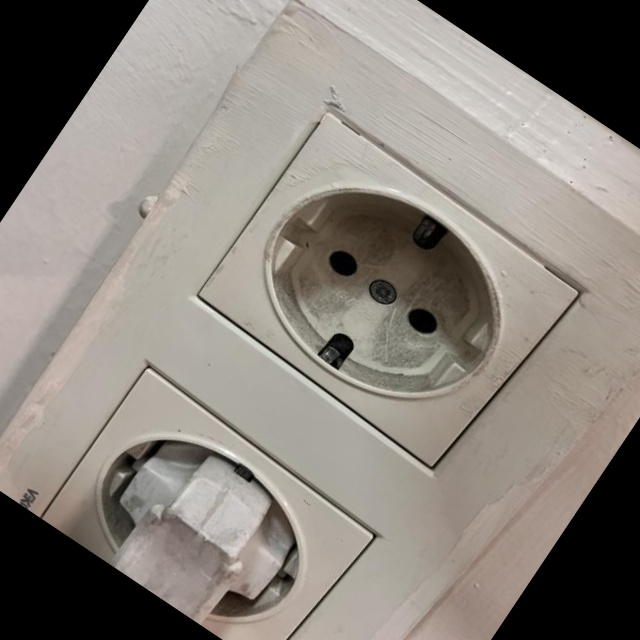pozidriv: (364, 275, 402, 310)
